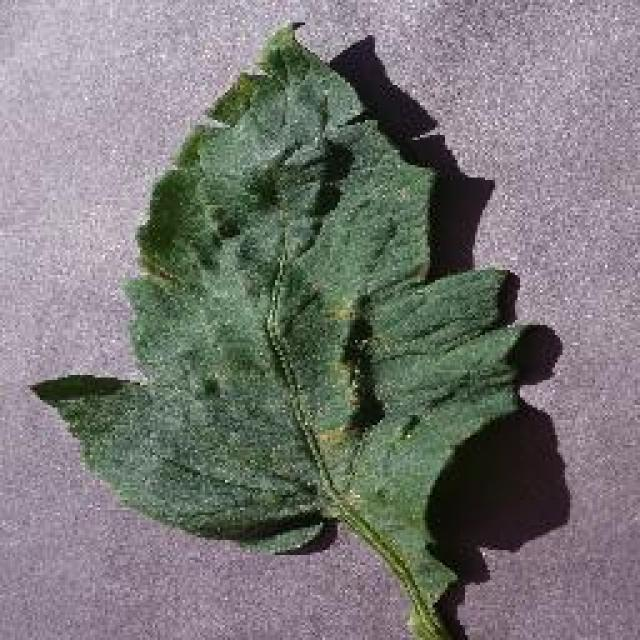Tomato Septoria spot leaf: (31, 24, 526, 556)
